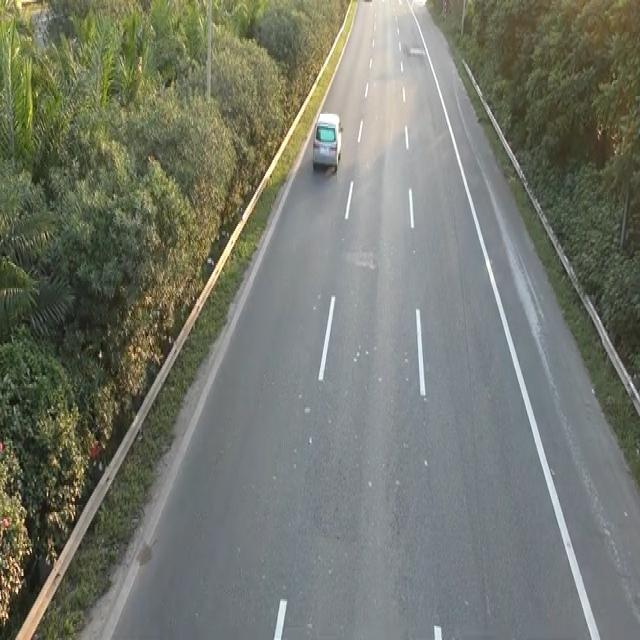lorry: (311, 109, 344, 172)
